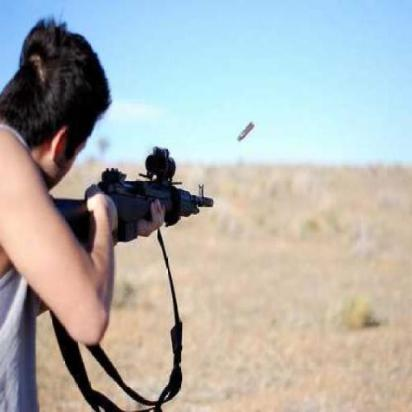Gun: (27, 147, 212, 237)
